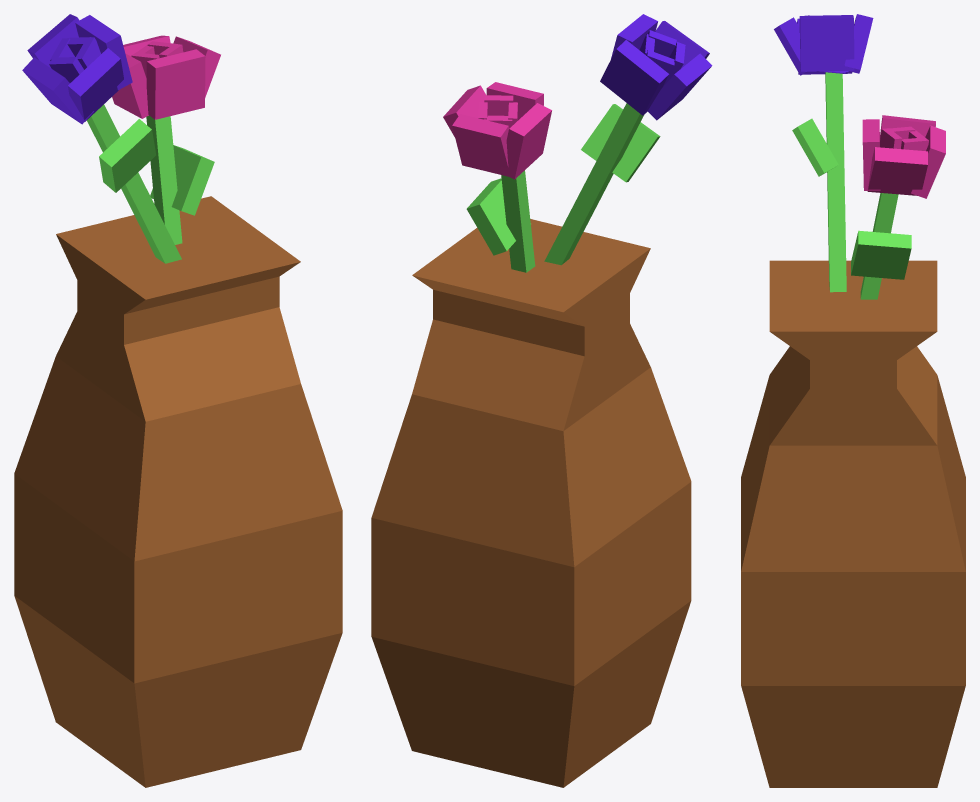
File: TableFlower2.fbx
3 views of the same model, side by side, from view 1: azimuth 30°, elevation 25°; view 2: azimuth 150°, elevation 25°; view 3: azimuth 270°, elevation 25° (orthographic). The views are drawn at different scales.
Visible parts, largest first — view 1: Cube, Cube.004, Cube.020, Cube.001, Cube.011, Cube.019, Cube.010, Cube.017, Cube.018, Cube.005, Cube.016, Cube.002 (+1 smaller); view 2: Cube, Cube.020, Cube.016, Cube.003, Cube.001, Cube.005, Cube.011, Cube.010, Cube.017, Cube.004, Cube.002, Cube.018 (+1 smaller); view 3: Cube, Cube.020, Cube.018, Cube.010, Cube.002, Cube.011, Cube.001, Cube.003, Cube.004, Cube.016, Cube.019, Cube.005.
Part boxes in pixels (bbox=[...]): Cube: bbox=[14, 196, 342, 787]; Cube.004: bbox=[146, 49, 205, 119]; Cube.020: bbox=[87, 104, 181, 263]; Cube.001: bbox=[146, 115, 182, 244]; Cube.011: bbox=[99, 119, 155, 192]; Cube.019: bbox=[68, 48, 123, 121]; Cube.010: bbox=[150, 145, 214, 215]; Cube.017: bbox=[22, 57, 93, 124]; Cube.018: bbox=[75, 15, 132, 90]; Cube.005: bbox=[112, 53, 148, 118]; Cube.016: bbox=[27, 14, 79, 68]; Cube.002: bbox=[173, 36, 220, 97]; Cube: bbox=[371, 219, 691, 787]; Cube.020: bbox=[544, 103, 644, 265]; Cube.016: bbox=[600, 40, 668, 115]; Cube.003: bbox=[452, 114, 509, 176]; Cube.001: bbox=[501, 170, 535, 272]; Cube.005: bbox=[500, 103, 551, 179]; Cube.011: bbox=[581, 104, 660, 182]; Cube.010: bbox=[466, 178, 530, 255]; Cube.017: bbox=[647, 53, 712, 120]; Cube.004: bbox=[486, 82, 543, 120]; Cube.002: bbox=[443, 85, 485, 136]; Cube.018: bbox=[611, 14, 657, 58]; Cube: bbox=[741, 260, 965, 787]; Cube.020: bbox=[825, 72, 846, 292]; Cube.018: bbox=[799, 15, 854, 71]; Cube.010: bbox=[851, 230, 911, 279]; Cube.002: bbox=[867, 147, 927, 195]; Cube.011: bbox=[792, 118, 838, 176]; Cube.001: bbox=[860, 193, 898, 299]; Cube.003: bbox=[911, 125, 945, 198]; Cube.004: bbox=[862, 119, 880, 190]; Cube.016: bbox=[844, 14, 873, 73]; Cube.019: bbox=[774, 17, 806, 75]; Cube.005: bbox=[880, 115, 935, 139].
Size of the model in its own units: 168 by 456 by 134.
